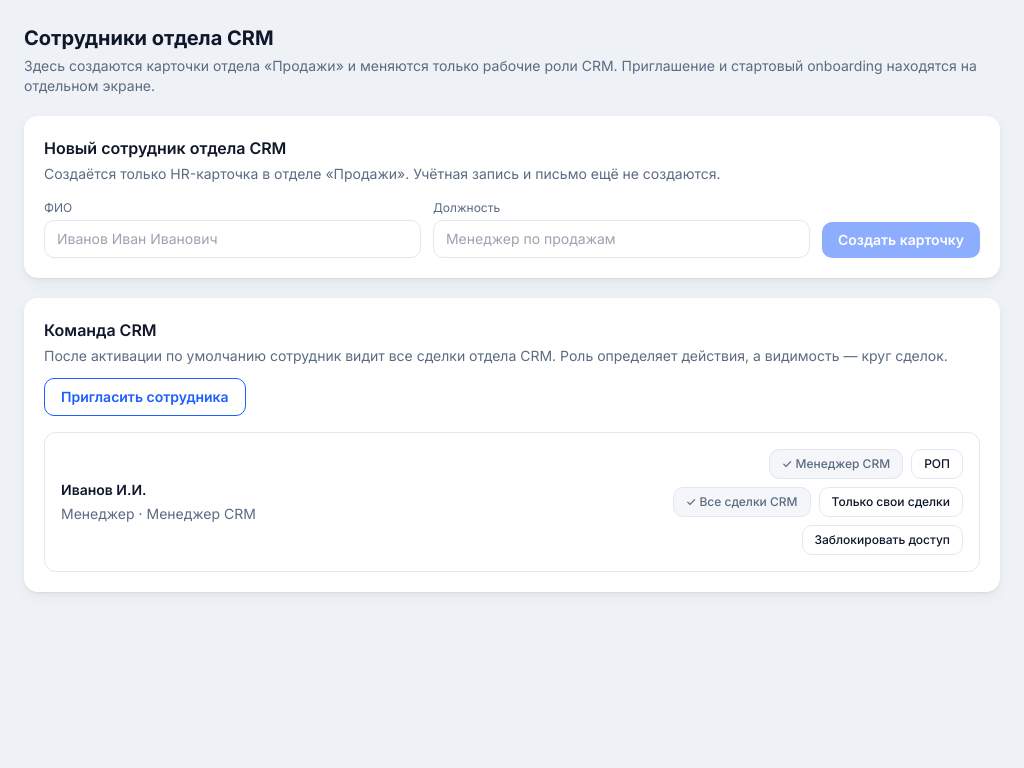
Test: CrmStaffAccess › does not retry an uncertain access change
Step 1. Click the button "Заблокировать доступ" → click(882, 540), box [802,525,963,555]
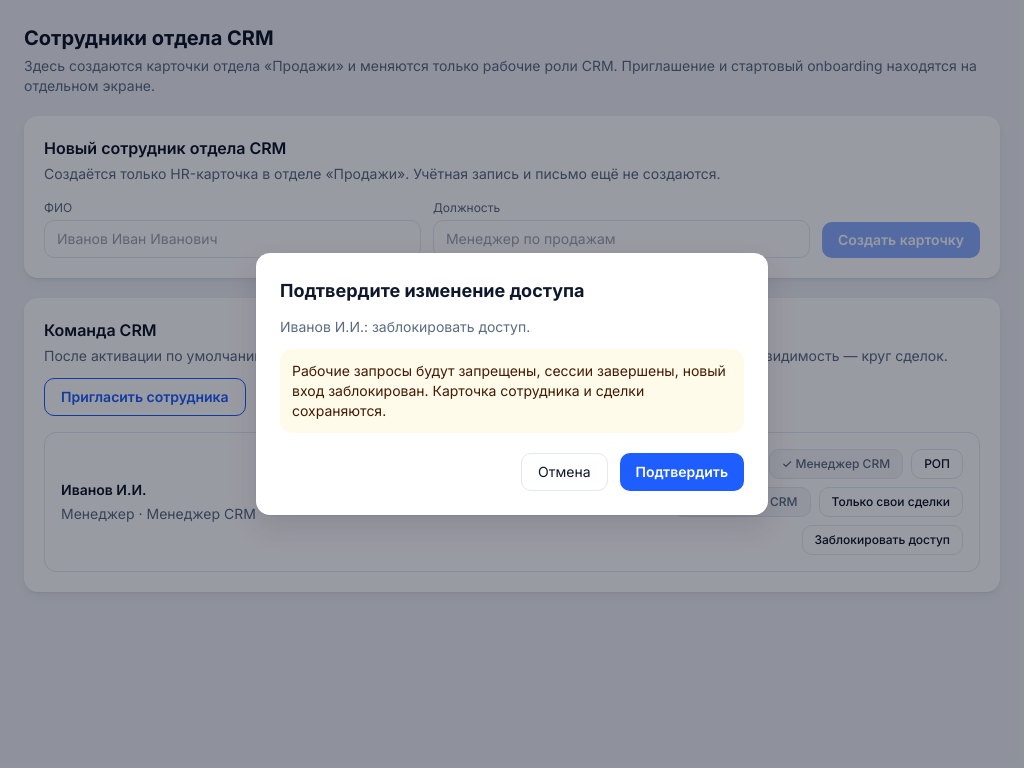
Step 2. Click the button "Подтвердить" → click(682, 472), box [620,453,744,491]
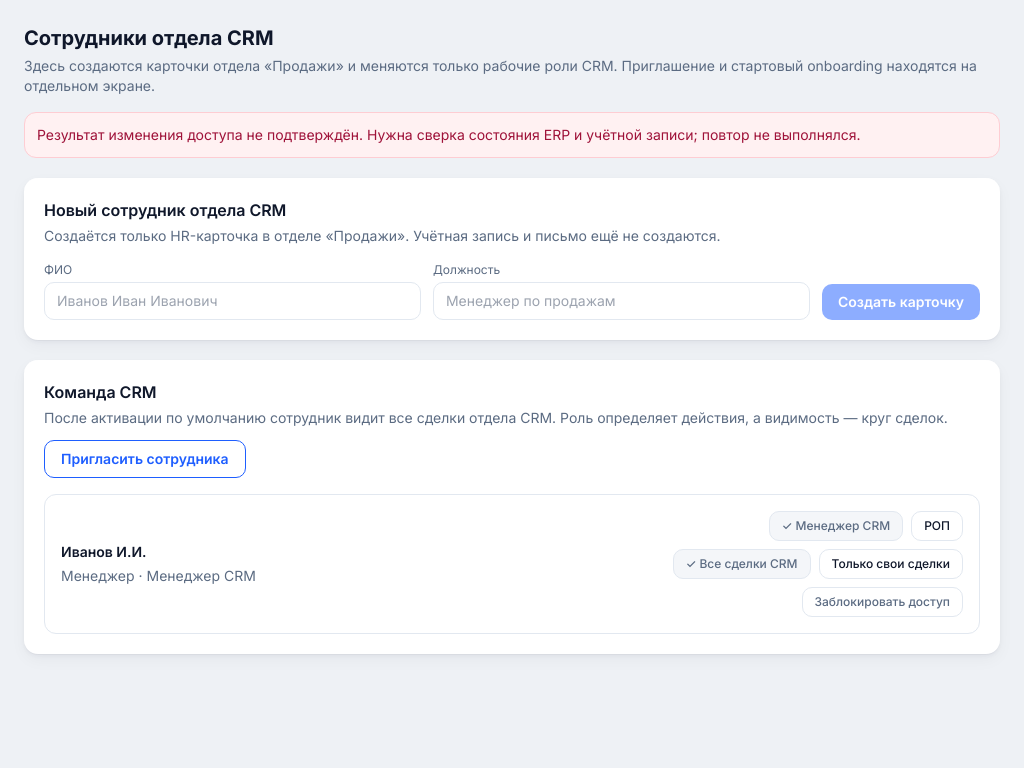
Result: the message shows "Нужна сверка" at [37,126,860,143]
Result: the button "Заблокировать доступ" is disabled at [802,587,963,617]
